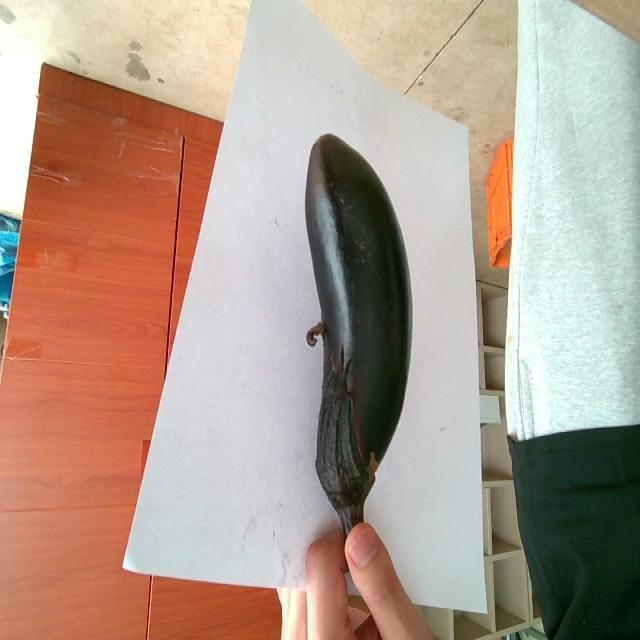Egg plant: (305, 136, 411, 535)
